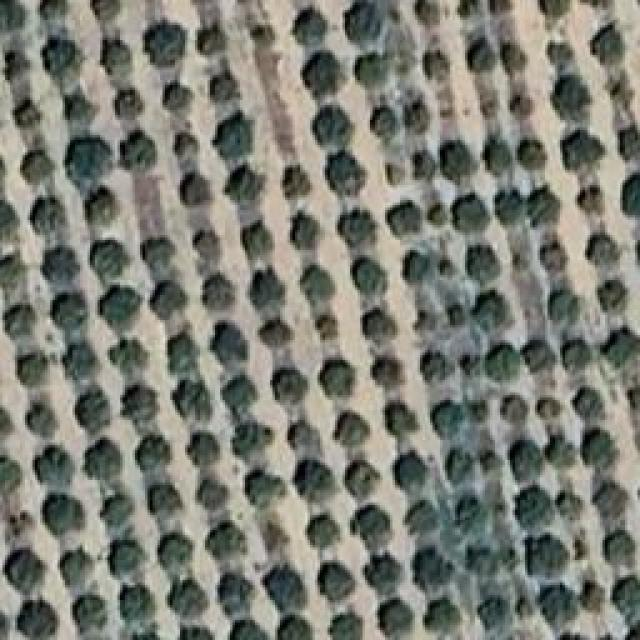Tree: (300, 48, 349, 97), (320, 150, 370, 196), (68, 138, 112, 186), (263, 565, 307, 613), (143, 17, 187, 64), (540, 580, 583, 627), (210, 110, 252, 156), (350, 505, 390, 553), (225, 165, 270, 207), (43, 493, 86, 536), (310, 103, 354, 145), (563, 130, 607, 171), (35, 445, 75, 490), (5, 550, 45, 595), (413, 548, 454, 591), (345, 0, 384, 44), (100, 285, 141, 326), (295, 460, 335, 502), (527, 535, 567, 577), (553, 75, 589, 121), (248, 268, 288, 309), (40, 35, 82, 74), (90, 240, 129, 282), (365, 553, 403, 596), (213, 322, 249, 367), (245, 470, 285, 510), (600, 328, 640, 368), (285, 5, 327, 43), (85, 438, 123, 480), (175, 380, 213, 421), (452, 192, 490, 232), (18, 600, 58, 638), (208, 523, 248, 561), (123, 130, 160, 171), (515, 485, 551, 527), (610, 573, 639, 625), (338, 210, 377, 248), (168, 580, 207, 618), (473, 290, 509, 331), (218, 573, 253, 615), (75, 390, 109, 433), (150, 280, 188, 318), (233, 423, 272, 460), (158, 78, 198, 114), (123, 385, 159, 425), (583, 430, 619, 470), (158, 533, 193, 574), (395, 453, 429, 495), (43, 248, 82, 284), (110, 340, 149, 376), (148, 484, 183, 524), (223, 375, 258, 415), (510, 440, 544, 481), (590, 23, 624, 64), (105, 38, 137, 81), (320, 360, 356, 398), (53, 293, 89, 331), (593, 483, 628, 522), (300, 265, 334, 305), (60, 547, 94, 587), (63, 342, 97, 382), (197, 23, 230, 64), (335, 413, 371, 450), (165, 128, 200, 166), (30, 198, 65, 236), (120, 585, 155, 623), (378, 598, 413, 636), (485, 343, 520, 381), (440, 140, 473, 180), (528, 187, 561, 227), (135, 435, 171, 471), (425, 598, 461, 634), (278, 163, 313, 200), (73, 595, 108, 632), (320, 563, 354, 601), (345, 460, 379, 498), (288, 420, 322, 458), (113, 90, 148, 126), (208, 65, 242, 102), (85, 188, 118, 226), (468, 245, 501, 283), (483, 135, 513, 176), (110, 540, 144, 576), (143, 238, 177, 274), (433, 400, 466, 437), (168, 334, 198, 374), (455, 495, 485, 535), (388, 202, 422, 237), (308, 515, 342, 550), (353, 258, 386, 294), (577, 578, 609, 615), (243, 220, 274, 258), (495, 188, 526, 226), (363, 308, 398, 341), (188, 432, 221, 467), (198, 477, 231, 512), (523, 340, 558, 373), (203, 273, 234, 310), (385, 404, 418, 438), (585, 233, 619, 266), (418, 350, 452, 383), (290, 212, 319, 250), (23, 150, 56, 183), (100, 495, 133, 528), (478, 598, 511, 631), (405, 500, 438, 533), (177, 172, 211, 204), (5, 305, 36, 340), (573, 387, 604, 422), (605, 530, 636, 565), (278, 368, 308, 404), (445, 448, 474, 485), (545, 435, 575, 470), (550, 490, 586, 519), (355, 55, 386, 88), (563, 340, 594, 373), (468, 37, 497, 72), (18, 353, 48, 386), (404, 98, 432, 133), (598, 280, 628, 312), (550, 290, 579, 323), (260, 320, 294, 348), (404, 250, 432, 284), (370, 105, 398, 138), (27, 405, 55, 438), (448, 295, 475, 329), (373, 358, 403, 388), (518, 140, 547, 171), (457, 350, 490, 377), (278, 615, 313, 640), (13, 100, 42, 130), (468, 548, 499, 576), (540, 240, 568, 271), (263, 523, 289, 555), (0, 255, 25, 288), (410, 308, 440, 335), (617, 125, 640, 160), (0, 455, 21, 492), (0, 0, 25, 31), (622, 173, 640, 216), (230, 620, 268, 640), (65, 95, 94, 121), (195, 233, 220, 263), (503, 44, 528, 74), (90, 0, 121, 24), (548, 43, 574, 71), (333, 615, 362, 640), (5, 52, 29, 82), (2, 200, 20, 240), (503, 395, 529, 422), (250, 23, 280, 45), (510, 95, 534, 121), (315, 315, 338, 341), (578, 188, 601, 213), (428, 53, 448, 81), (540, 0, 571, 17), (510, 598, 532, 621), (417, 0, 438, 24), (538, 398, 563, 418), (428, 203, 448, 226), (415, 154, 434, 178), (180, 627, 215, 640), (480, 450, 500, 472), (388, 163, 407, 185), (470, 400, 489, 422), (440, 258, 455, 276)
